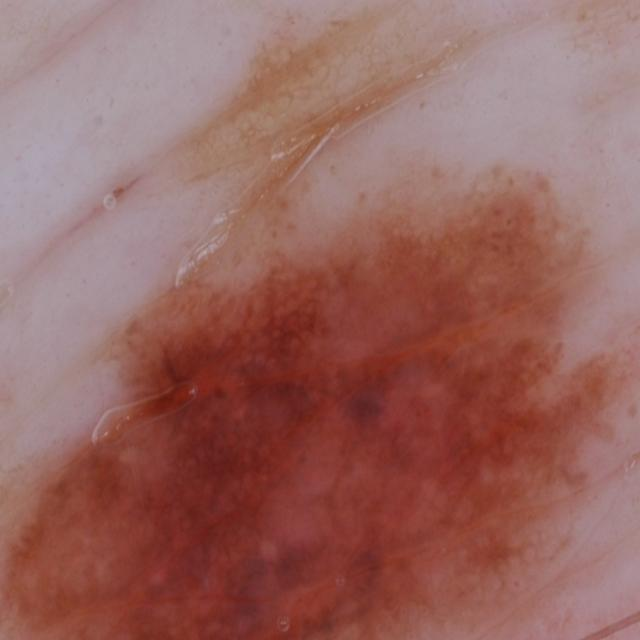Melanoma: (0, 149, 640, 640)
